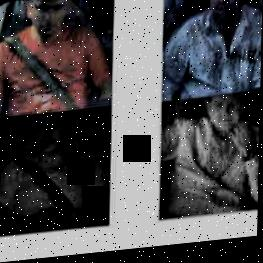seatbelt: (3, 27, 78, 115), (6, 145, 81, 228)
